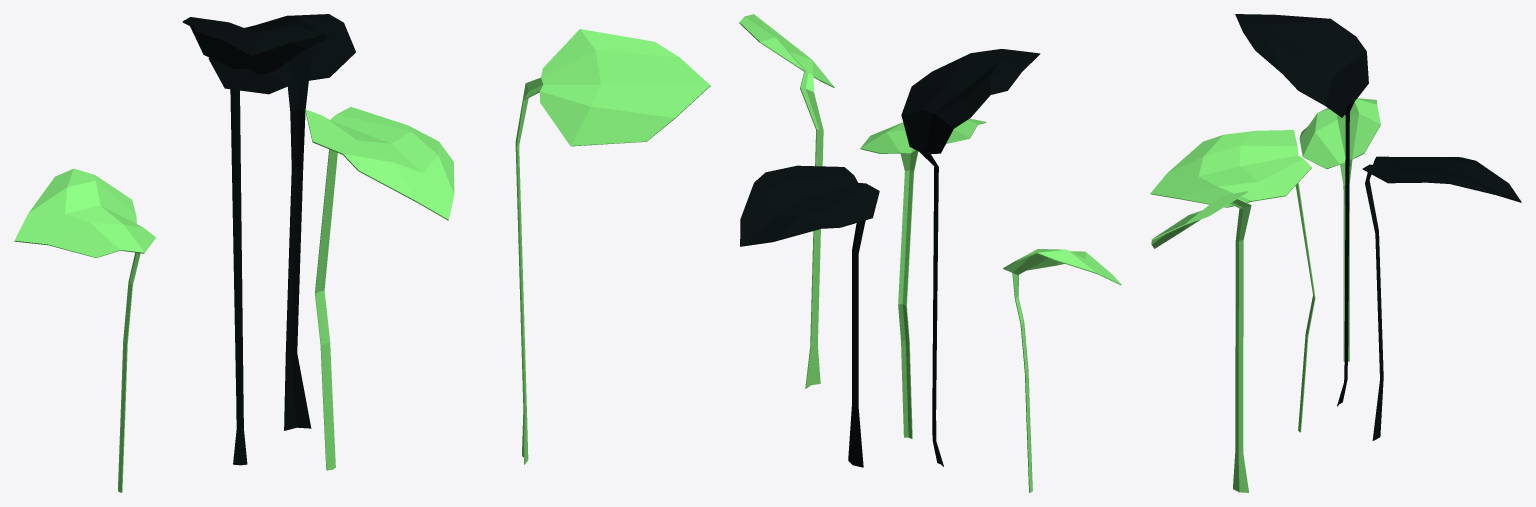
Rendered from st3_plant8.fbx.
The picture shows the model from 3 angles, left to right: view 1: azimuth 30°, elevation 25°; view 2: azimuth 150°, elevation 25°; view 3: azimuth 270°, elevation 25°; orthographic projection. The views are drawn at different scales.
Parts seen in each view (by area): view 1: stage3_map_object_leaf_8_1; view 2: stage3_map_object_leaf_8_1; view 3: stage3_map_object_leaf_8_1.
Boxes of the visible parts, bbox=[...] form: stage3_map_object_leaf_8_1: bbox=[14, 14, 710, 492]; stage3_map_object_leaf_8_1: bbox=[739, 14, 1121, 492]; stage3_map_object_leaf_8_1: bbox=[1150, 14, 1521, 492].
Size of the model in its own units: 1746 by 1379 by 1249.
